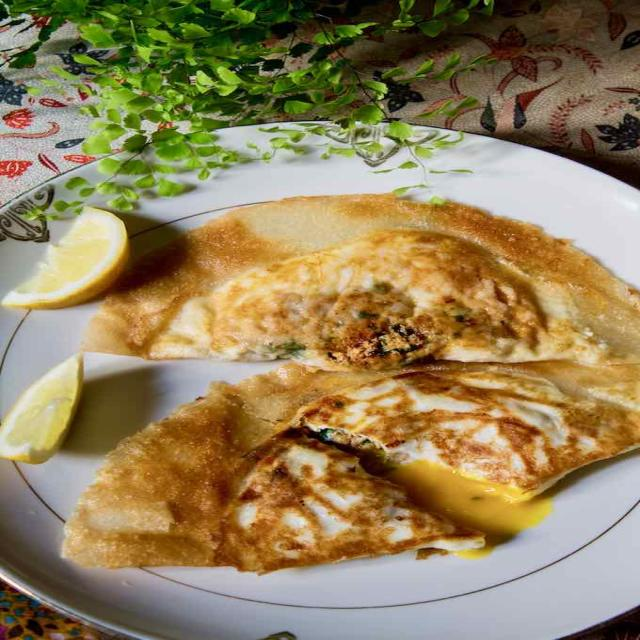brik: (7, 367, 632, 574), (86, 179, 632, 351)
